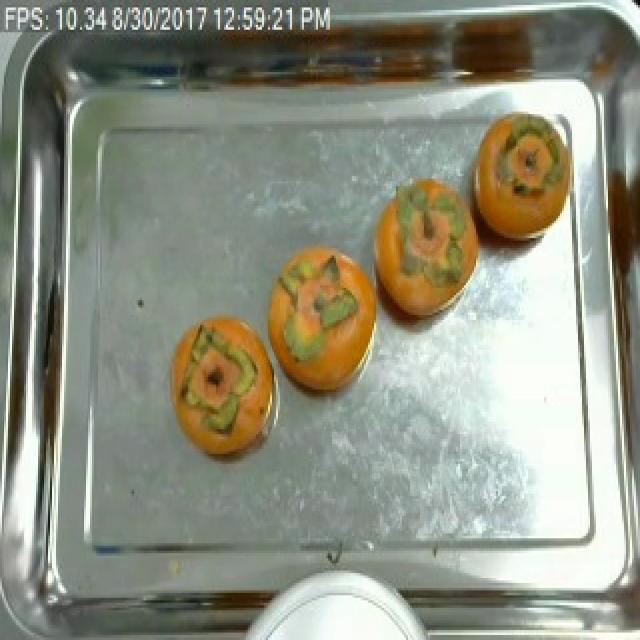Fruit: (260, 233, 382, 419), (368, 161, 494, 335), (458, 94, 574, 268), (162, 303, 280, 471)
